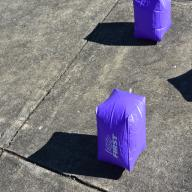cube: (96, 88, 146, 172), (132, 0, 172, 42)
